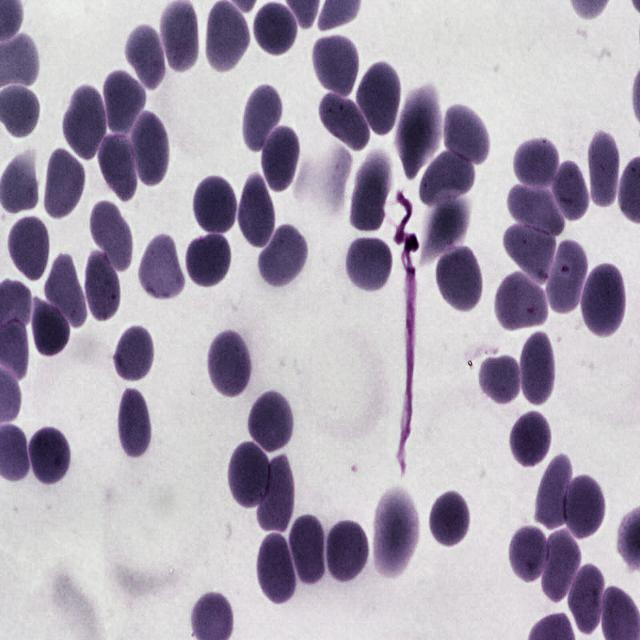red blood cell: (370, 494, 420, 580), (398, 88, 442, 177), (542, 237, 590, 318), (494, 267, 550, 335), (442, 97, 490, 172), (63, 84, 109, 162), (504, 217, 558, 280), (205, 330, 252, 402), (357, 60, 402, 135), (246, 388, 297, 454), (582, 263, 624, 342), (42, 145, 86, 220), (322, 517, 370, 585), (130, 111, 172, 188), (227, 438, 271, 510), (157, 0, 200, 73), (316, 90, 370, 148), (418, 146, 476, 200), (139, 231, 186, 297), (353, 155, 392, 234), (258, 226, 308, 287), (257, 455, 295, 534), (206, 0, 248, 71), (102, 68, 144, 138), (192, 174, 239, 236), (240, 83, 282, 152), (91, 199, 133, 268), (256, 532, 296, 604), (437, 246, 482, 310), (426, 487, 472, 549), (238, 174, 277, 247), (312, 33, 360, 92), (45, 254, 86, 323), (568, 565, 607, 637), (508, 526, 554, 587), (540, 531, 580, 601), (288, 513, 326, 585), (508, 408, 552, 470), (564, 472, 605, 538), (520, 330, 556, 405), (111, 321, 153, 385), (254, 2, 300, 60), (584, 128, 618, 206), (550, 158, 590, 224), (261, 125, 299, 194), (126, 26, 166, 91), (28, 426, 72, 484), (346, 237, 393, 291), (86, 250, 122, 320), (98, 134, 136, 200), (537, 455, 571, 527), (10, 216, 49, 278), (30, 299, 70, 358), (186, 236, 232, 287), (508, 186, 564, 227), (513, 138, 561, 185), (480, 354, 522, 407), (120, 387, 151, 457)
